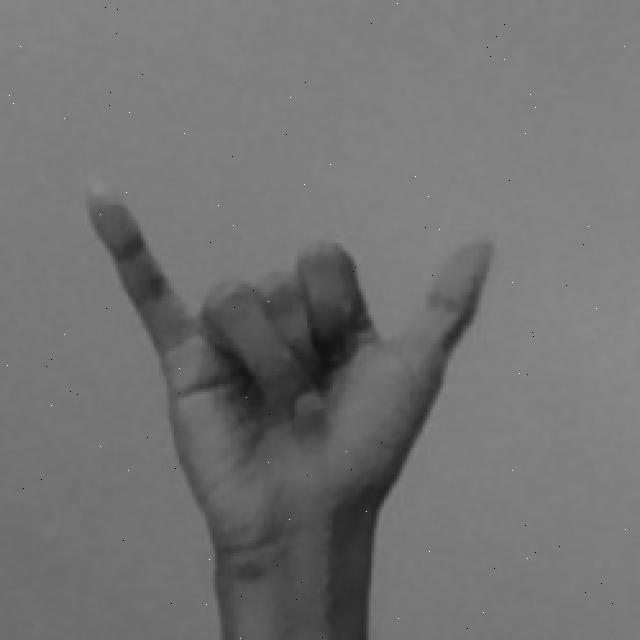Y: (71, 166, 503, 640)
